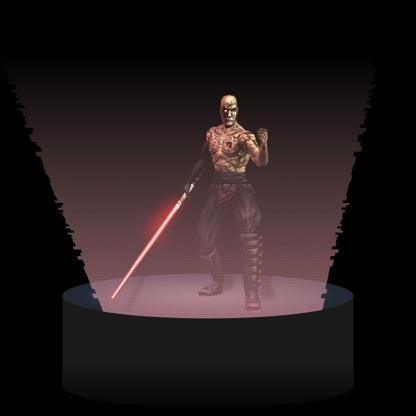sith_lightsaber: (109, 178, 202, 300)
